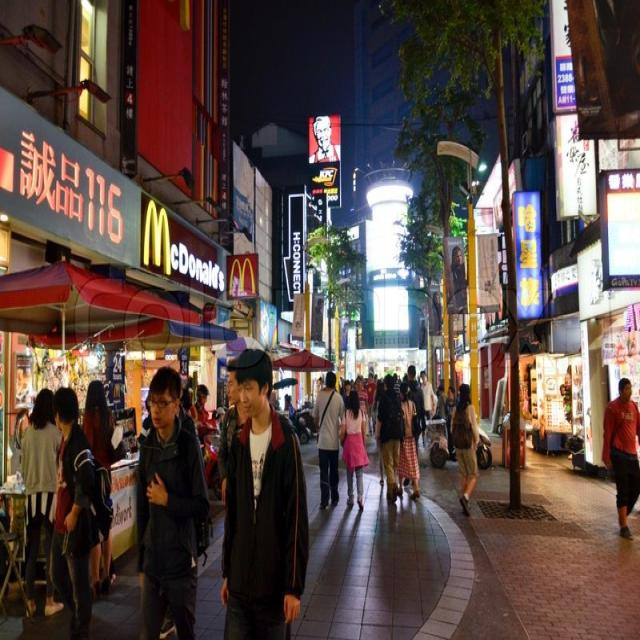body: (218, 346, 310, 638), (134, 362, 216, 639), (47, 384, 116, 639), (18, 386, 66, 620), (81, 378, 115, 601), (599, 376, 639, 541), (216, 354, 249, 509), (312, 370, 346, 510), (372, 372, 406, 506), (449, 382, 481, 516), (338, 389, 371, 512), (316, 364, 421, 399), (184, 382, 226, 458), (396, 381, 422, 502), (402, 365, 427, 488), (308, 111, 339, 166), (449, 243, 469, 314), (444, 383, 459, 456), (356, 376, 370, 450), (419, 369, 437, 422), (364, 372, 378, 437), (434, 383, 449, 437), (428, 291, 442, 335), (282, 392, 298, 420)
